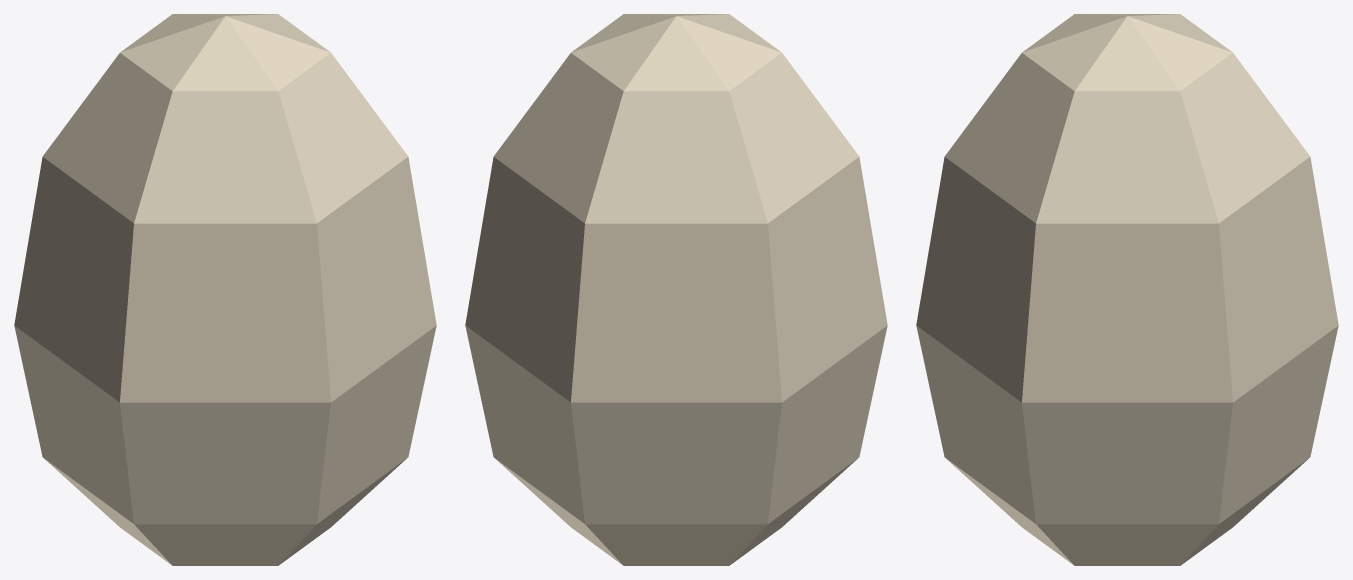
The model's file is egg.glb.
3 renders of one model, left to right at view 1: azimuth 30°, elevation 25°; view 2: azimuth 150°, elevation 25°; view 3: azimuth 270°, elevation 25°, orthographic.
Visible parts, largest first — view 1: Sphere.001; view 2: Sphere.001; view 3: Sphere.001.
Boxes of the visible parts, <box> form: Sphere.001: <box>14,14,436,565</box>; Sphere.001: <box>465,14,887,565</box>; Sphere.001: <box>916,14,1338,565</box>.
Size of the model in its own units: 1.73 by 2.8 by 2.
